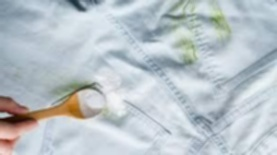earth: (171, 1, 197, 29), (211, 12, 232, 37), (184, 39, 195, 63)
